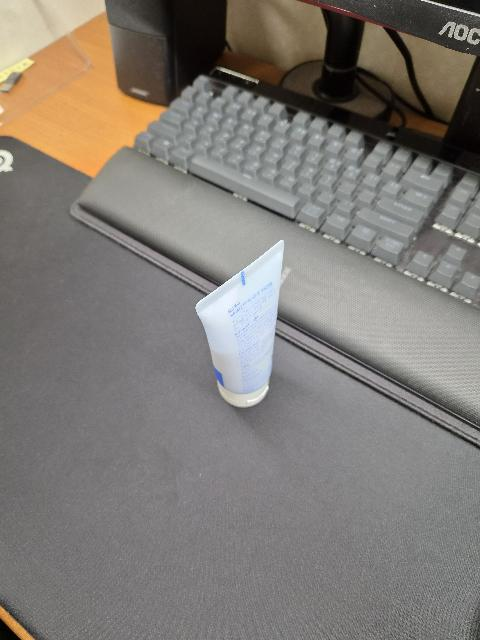handcream: (196, 241, 285, 407)
